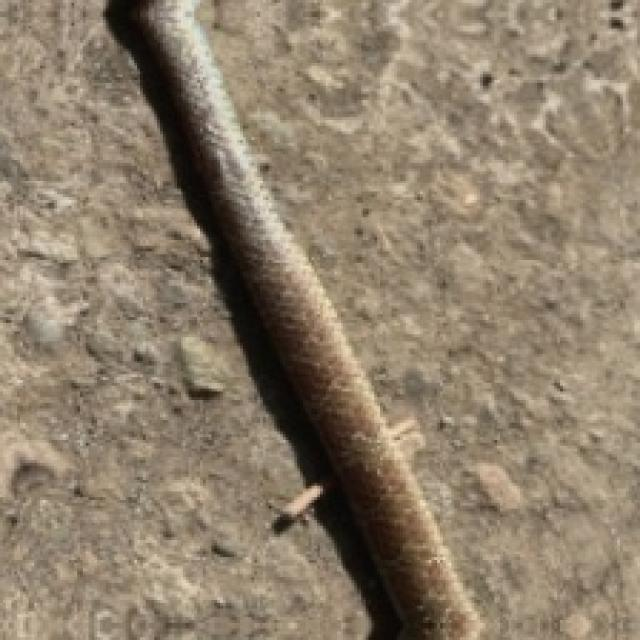mullers wolf snake: (106, 0, 480, 637)
